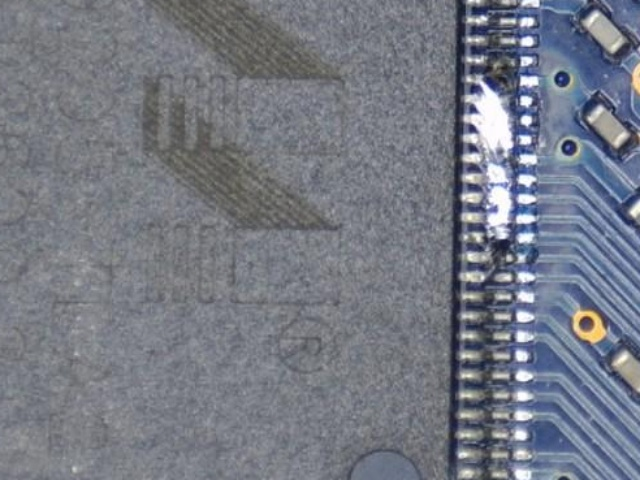pcb_defect: (459, 54, 538, 244)
